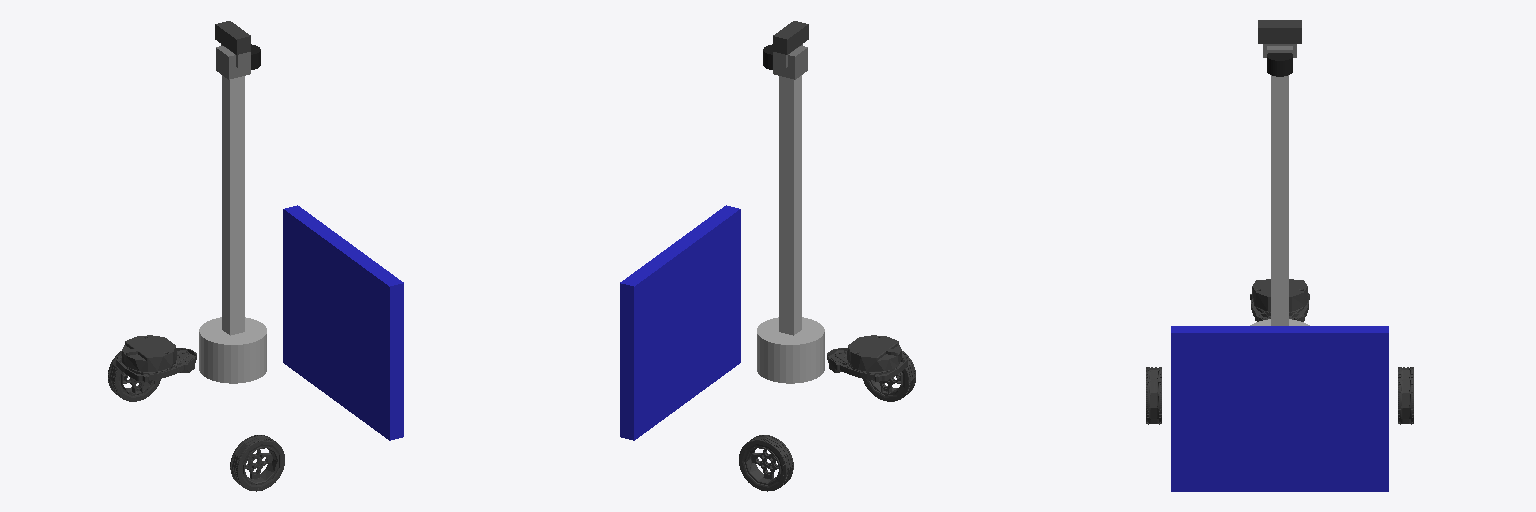
The robot description file, URDF, robot "BombDefusingRobot":
<?xml version="1.0" encoding="utf-8"?>
<robot name="BombDefusingRobot">
  <!-- Materials -->
  <material name="light_black">
    <color rgba="0.1698 0.169 0.169 1" />
  </material>
  <material name="dark">
    <color rgba="0.3 0.3 0.3 1" />
  </material>
  <material name="arm_material">
    <color rgba="0.7 0.7 0.7 1.0" />
  </material>
  <material name="gripper_material">
    <color rgba="0.5 0.5 0.5 1.0" />
  </material>
  <material name="shield_material">
    <color rgba="0.2 0.2 0.8 0.7" /> <!-- Transparent blue for shield -->
  </material>

  <!-- Base Footprint -->
  <link name="base_footprint" />

  <!-- Base Link -->
  <link name="base_link">
    <inertial>
      <origin rpy="0 0 0" xyz="0 0 0" />
      <mass value="1.3729095459" />
      <inertia ixx="0.00870027951896191" ixy="-4.75801425636746E-05" ixz="0.000111604596895631" iyy="0.00861953478306532" iyz="-3.54216444975464E-06" izz="0.0146127268671989" />
    </inertial>
    <visual>
      <origin xyz="-0.064 0 0" />
      <geometry>
        <mesh filename="package://meshes/waffle_base.stl" scale="0.001 0.001 0.001" />
      </geometry>
      <material name="light_black">
        <color rgba="0.1698 0.169 0.169 1" />
      </material>
    </visual>
    <collision>
      <origin xyz="-0.064 0 0.047" />
      <geometry>
        <box size="0.266 0.266 0.094" />
      </geometry>
    </collision>
  </link>

  <!-- Base Scan (Lidar) -->
  <link name="base_scan">
    <inertial>
      <origin rpy="0 0 0" xyz="0 0 0" />
      <mass value="0.1140000001" />
      <inertia ixx="0.00100000004749745" ixy="0" ixz="0" iyy="0.00100000004749745" iyz="0" izz="0.00100000004749745" />
    </inertial>
    <visual>
      <geometry>
        <mesh filename="package://meshes/lds.stl" scale="0.001 0.001 0.001" />
      </geometry>
      <material name="dark">
        <color rgba="0.3 0.3 0.3 1" />
      </material>
    </visual>
    <collision>
      <origin xyz="0.015 0 -0.0065" />
      <geometry>
        <cylinder length="0.0315" radius="0.055" />
      </geometry>
    </collision>
  </link>

  <!-- IMU Link -->
  <link name="imu_link" />

  <!-- Right Wheel -->
  <link name="wheel_right_link">
    <inertial>
      <origin rpy="0 0 0" xyz="0 0 0" />
      <mass value="0.0284989402" />
      <inertia ixx="1.11753870442044E-05" ixy="-4.32541016892607E-11" ixz="-5.93885829403007E-09" iyy="1.11926092358772E-05" iyz="-1.46103424497612E-11" izz="2.07125576707767E-05" />
    </inertial>
    <visual>
      <origin rpy="-4.713185 0 0" />
      <geometry>
        <mesh filename="package://meshes/right_tire.stl" scale="0.001 0.001 0.001" />
      </geometry>
      <material name="dark">
        <color rgba="0.3 0.3 0.3 1" />
      </material>
    </visual>
    <collision>
      <origin rpy="-4.713185 0 0" xyz="0 0 0" />
      <geometry>
        <cylinder length="0.018" radius="0.033" />
      </geometry>
    </collision>
  </link>

  <!-- Left Wheel -->
  <link name="wheel_left_link">
    <inertial>
      <origin rpy="0 0 0" xyz="0 0 0" />
      <mass value="0.0284989402" />
      <inertia ixx="1.11753870442044E-05" ixy="-4.32541016892607E-11" ixz="-5.93885829403007E-09" iyy="1.11926092358772E-05" iyz="-1.46103424497612E-11" izz="2.07125576707767E-05" />
    </inertial>
    <visual>
      <origin rpy="-4.713185 0 0" />
      <geometry>
        <mesh filename="package://meshes/left_tire.stl" scale="0.001 0.001 0.001" />
      </geometry>
      <material name="dark">
        <color rgba="0.3 0.3 0.3 1" />
      </material>
    </visual>
    <collision>
      <origin rpy="-4.713185 0 0" xyz="0 0 0" />
      <geometry>
        <cylinder length="0.018" radius="0.033" />
      </geometry>
    </collision>
  </link>

  <!-- Robotic Arm Base -->
  <link name="arm_base_link">
    <inertial>
      <origin rpy="0 0 0" xyz="0 0 0" />
      <mass value="0.2" />
      <inertia ixx="0.001" ixy="0" ixz="0" iyy="0.001" iyz="0" izz="0.001" />
    </inertial>
    <visual>
      <origin rpy="0 0 0" xyz="0 0 0" />
      <geometry>
        <cylinder length="0.05" radius="0.04" />
      </geometry>
      <material name="arm_material" />
    </visual>
    <collision>
      <origin rpy="0 0 0" xyz="0 0 0" />
      <geometry>
        <cylinder length="0.05" radius="0.04" />
      </geometry>
    </collision>
  </link>
  
  <!-- Arm Segment 1 -->
  <link name="arm_segment_1">
    <inertial>
      <origin rpy="0 0 0" xyz="0 0 0.1" />
      <mass value="0.1" />
      <inertia ixx="0.0008" ixy="0" ixz="0" iyy="0.0008" iyz="0" izz="0.0001" />
    </inertial>
    <visual>
      <origin rpy="0 0 0" xyz="0 0 0.1" />
      <geometry>
        <box size="0.02 0.02 0.2" />
      </geometry>
      <material name="arm_material" />
    </visual>
    <collision>
      <origin rpy="0 0 0" xyz="0 0 0.1" />
      <geometry>
        <box size="0.02 0.02 0.2" />
      </geometry>
    </collision>
  </link>
  
  <!-- Arm Segment 2 -->
  <link name="arm_segment_2">
    <inertial>
      <origin rpy="0 0 0" xyz="0 0 0.1" />
      <mass value="0.1" />
      <inertia ixx="0.0008" ixy="0" ixz="0" iyy="0.0008" iyz="0" izz="0.0001" />
    </inertial>
    <visual>
      <origin rpy="0 0 0" xyz="0 0 0.075" />
      <geometry>
        <box size="0.02 0.02 0.15" />
      </geometry>
      <material name="arm_material" />
    </visual>
    <collision>
      <origin rpy="0 0 0" xyz="0 0 0.075" />
      <geometry>
        <box size="0.02 0.02 0.15" />
      </geometry>
    </collision>
  </link>
  
  <!-- Gripper Base -->
  <link name="gripper_base">
    <inertial>
      <origin rpy="0 0 0" xyz="0 0 0" />
      <mass value="0.05" />
      <inertia ixx="0.0001" ixy="0" ixz="0" iyy="0.0001" iyz="0" izz="0.0001" />
    </inertial>
    <visual>
      <origin rpy="0 0 0" xyz="0 0 0" />
      <geometry>
        <box size="0.03 0.03 0.03" />
      </geometry>
      <material name="gripper_material" />
    </visual>
    <collision>
      <origin rpy="0 0 0" xyz="0 0 0" />
      <geometry>
        <box size="0.03 0.03 0.03" />
      </geometry>
    </collision>
  </link>
  
  <!-- Gripper Left Finger -->
  <link name="gripper_finger_left">
    <inertial>
      <origin rpy="0 0 0" xyz="0 0.01 0.015" />
      <mass value="0.01" />
      <inertia ixx="0.00001" ixy="0" ixz="0" iyy="0.00001" iyz="0" izz="0.00001" />
    </inertial>
    <visual>
      <origin rpy="0 0 0" xyz="0 0.01 0.015" />
      <geometry>
        <box size="0.01 0.02 0.03" />
      </geometry>
      <material name="gripper_material" />
    </visual>
    <collision>
      <origin rpy="0 0 0" xyz="0 0.01 0.015" />
      <geometry>
        <box size="0.01 0.02 0.03" />
      </geometry>
    </collision>
  </link>
  
  <!-- Gripper Right Finger -->
  <link name="gripper_finger_right">
    <inertial>
      <origin rpy="0 0 0" xyz="0 -0.01 0.015" />
      <mass value="0.01" />
      <inertia ixx="0.00001" ixy="0" ixz="0" iyy="0.00001" iyz="0" izz="0.00001" />
    </inertial>
    <visual>
      <origin rpy="0 0 0" xyz="0 -0.01 0.015" />
      <geometry>
        <box size="0.01 0.02 0.03" />
      </geometry>
      <material name="gripper_material" />
    </visual>
    <collision>
      <origin rpy="0 0 0" xyz="0 -0.01 0.015" />
      <geometry>
        <box size="0.01 0.02 0.03" />
      </geometry>
    </collision>
  </link>
  
  <!-- Camera Link -->
  <link name="camera_link">
    <inertial>
      <origin rpy="0 0 0" xyz="0 0 0" />
      <mass value="0.05" />
      <inertia ixx="0.0001" ixy="0" ixz="0" iyy="0.0001" iyz="0" izz="0.0001" />
    </inertial>
    <visual>
      <origin rpy="0 0 0" xyz="0 0 0" />
      <geometry>
        <box size="0.02 0.05 0.02" />
      </geometry>
      <material name="dark" />
    </visual>
    <collision>
      <origin rpy="0 0 0" xyz="0 0 0" />
      <geometry>
        <box size="0.02 0.05 0.02" />
      </geometry>
    </collision>
  </link>
  
  <!-- Bomb Sensor Link -->
  <link name="bomb_sensor_link">
    <inertial>
      <origin rpy="0 0 0" xyz="0 0 0" />
      <mass value="0.02" />
      <inertia ixx="0.0001" ixy="0" ixz="0" iyy="0.0001" iyz="0" izz="0.0001" />
    </inertial>
    <visual>
      <origin rpy="0 0 0" xyz="0 0 0" />
      <geometry>
        <cylinder length="0.02" radius="0.015" />
      </geometry>
      <material name="light_black" />
    </visual>
    <collision>
      <origin rpy="0 0 0" xyz="0 0 0" />
      <geometry>
        <cylinder length="0.02" radius="0.015" />
      </geometry>
    </collision>
  </link>
  
  <!-- Protective Shield -->
  <link name="shield_link">
    <inertial>
      <origin rpy="0 0 0" xyz="0.1 0 0" />
      <mass value="0.5" />
      <inertia ixx="0.001" ixy="0" ixz="0" iyy="0.001" iyz="0" izz="0.001" />
    </inertial>
    <visual>
      <origin rpy="0 0 0" xyz="0.1 0 0" />
      <geometry>
        <box size="0.02 0.25 0.2" />
      </geometry>
      <material name="shield_material" />
    </visual>
    <collision>
      <origin rpy="0 0 0" xyz="0.1 0 0" />
      <geometry>
        <box size="0.02 0.25 0.2" />
      </geometry>
    </collision>
  </link>
  
  <!-- Joints -->
  <!-- Base joints (same as TurtleBot3) -->
  <joint name="base_joint" type="fixed">
    <origin xyz="0 0 0.01" />
    <parent link="base_footprint" />
    <child link="base_link" />
  </joint>
  <joint name="scan_joint" type="fixed">
    <origin xyz="-0.064 0 0.122" />
    <parent link="base_link" />
    <child link="base_scan" />
  </joint>
  <joint name="imu_joint" type="fixed">
    <origin xyz="0 0 0.068" />
    <parent link="base_link" />
    <child link="imu_link" />
  </joint>
  <joint name="wheel_right_joint" type="continuous">
    <origin rpy="-1.57 0 0" xyz="0 -0.144 0.023" />
    <parent link="base_link" />
    <child link="wheel_right_link" />
    <axis xyz="0 1 0" />
  </joint>
  <joint name="wheel_left_joint" type="continuous">
    <origin rpy="-1.57 0 0" xyz="0 0.144 0.023" />
    <parent link="base_link" />
    <child link="wheel_left_link" />
    <axis xyz="0 1 0" />
  </joint>
  
  <!-- Arm joints -->
  <joint name="arm_base_joint" type="fixed">
    <parent link="base_link" />
    <child link="arm_base_link" />
    <origin xyz="0.05 0 0.1" />
  </joint>
  
  <joint name="arm_joint_1" type="revolute">
    <parent link="arm_base_link" />
    <child link="arm_segment_1" />
    <origin xyz="0 0 0.025" />
    <axis xyz="0 1 0" />
    <limit effort="1000.0" lower="-1.57" upper="1.57" velocity="0.5" />
  </joint>
  
  <joint name="arm_joint_2" type="revolute">
    <parent link="arm_segment_1" />
    <child link="arm_segment_2" />
    <origin xyz="0 0 0.2" />
    <axis xyz="0 1 0" />
    <limit effort="1000.0" lower="-1.57" upper="1.57" velocity="0.5" />
  </joint>
  
  <joint name="gripper_base_joint" type="revolute">
    <parent link="arm_segment_2" />
    <child link="gripper_base" />
    <origin xyz="0 0 0.15" />
    <axis xyz="0 0 1" />
    <limit effort="1000.0" lower="-3.14" upper="3.14" velocity="0.5" />
  </joint>
  
  <joint name="gripper_finger_left_joint" type="prismatic">
    <parent link="gripper_base" />
    <child link="gripper_finger_left" />
    <origin xyz="0 0 0" />
    <axis xyz="0 1 0" />
    <limit effort="100.0" lower="0" upper="0.02" velocity="0.1" />
  </joint>
  
  <joint name="gripper_finger_right_joint" type="prismatic">
    <parent link="gripper_base" />
    <child link="gripper_finger_right" />
    <origin xyz="0 0 0" />
    <axis xyz="0 -1 0" />
    <limit effort="100.0" lower="0" upper="0.02" velocity="0.1" />
  </joint>
  
  <joint name="camera_joint" type="fixed">
    <parent link="gripper_base" />
    <child link="camera_link" />
    <origin xyz="0 0 0.03" />
  </joint>
  
  <joint name="bomb_sensor_joint" type="fixed">
    <parent link="gripper_base" />
    <child link="bomb_sensor_link" />
    <origin xyz="0.02 0 0" />
  </joint>
  
  <joint name="shield_joint" type="fixed">
    <parent link="base_link" />
    <child link="shield_link" />
    <origin xyz="0.1 0 0.1" />
  </joint>
  
  <!-- Gazebo Plugins (Preserved for Movement) -->
  <gazebo reference="base_link">
    <material>Gazebo/DarkGrey</material>
  </gazebo>
  <gazebo reference="wheel_left_link">
    <mu1>0.1</mu1>
    <mu2>0.1</mu2>
    <kp>500000.0</kp>
    <kd>10.0</kd>
    <minDepth>0.001</minDepth>
    <maxVel>0.1</maxVel>
    <fdir1>1 0 0</fdir1>
    <material>Gazebo/FlatBlack</material>
  </gazebo>
  <gazebo reference="wheel_right_link">
    <mu1>0.1</mu1>
    <mu2>0.1</mu2>
    <kp>500000.0</kp>
    <kd>10.0</kd>
    <minDepth>0.001</minDepth>
    <maxVel>0.1</maxVel>
    <fdir1>1 0 0</fdir1>
    <material>Gazebo/FlatBlack</material>
  </gazebo>
  
  <!-- Gazebo plugin for differential drive -->
  <gazebo>
    <plugin filename="libgazebo_ros_diff_drive.so" name="bomb_defusing_robot_controller">
      <commandTopic>cmd_vel</commandTopic>
      <odometryTopic>odom</odometryTopic>
      <odometryFrame>odom</odometryFrame>
      <odometrySource>world</odometrySource>
      <publishOdomTF>true</publishOdomTF>
      <robotBaseFrame>base_footprint</robotBaseFrame>
      <publishWheelTF>false</publishWheelTF>
      <publishTf>true</publishTf>
      <publishWheelJointState>true</publishWheelJointState>
      <legacyMode>false</legacyMode>
      <updateRate>30</updateRate>
      <leftJoint>wheel_left_joint</leftJoint>
      <rightJoint>wheel_right_joint</rightJoint>
      <wheelSeparation>0.287</wheelSeparation>
      <wheelDiameter>0.066</wheelDiameter>
      <wheelAcceleration>1</wheelAcceleration>
      <wheelTorque>10</wheelTorque>
      <rosDebugLevel>na</rosDebugLevel>
    </plugin>
  </gazebo>
  
  <!-- Gazebo plugin for IMU -->
  <gazebo>
    <plugin filename="libgazebo_ros_imu.so" name="imu_plugin">
      <alwaysOn>true</alwaysOn>
      <bodyName>imu_link</bodyName>
      <frameName>imu_link</frameName>
      <topicName>imu</topicName>
      <serviceName>imu_service</serviceName>
      <gaussianNoise>0.0</gaussianNoise>
      <updateRate>200</updateRate>
      <imu>
        <noise>
          <type>gaussian</type>
          <rate>
            <mean>0.0</mean>
            <stddev>2e-4</stddev>
            <bias_mean>0.0000075</bias_mean>
            <bias_stddev>0.0000008</bias_stddev>
          </rate>
          <accel>
            <mean>0.0</mean>
            <stddev>1.7e-2</stddev>
            <bias_mean>0.1</bias_mean>
            <bias_stddev>0.001</bias_stddev>
          </accel>
        </noise>
      </imu>
    </plugin>
  </gazebo>
  
  <!-- Gazebo plugin for LiDAR -->
  <gazebo reference="base_scan">
    <material>Gazebo/FlatBlack</material>
    <sensor name="lds_lfcd_sensor" type="ray">
      <pose>0 0 0 0 0 0</pose>
      <visualize>false</visualize>
      <update_rate>5</update_rate>
      <ray>
        <scan>
          <horizontal>
            <samples>360</samples>
            <resolution>1</resolution>
            <min_angle>0.0</min_angle>
            <max_angle>6.28319</max_angle>
          </horizontal>
        </scan>
        <range>
          <min>0.120</min>
          <max>3.5</max>
          <resolution>0.015</resolution>
        </range>
        <noise>
          <type>gaussian</type>
          <mean>0.0</mean>
          <stddev>0.01</stddev>
        </noise>
      </ray>
      <plugin filename="libgazebo_ros_laser.so" name="gazebo_ros_lds_lfcd_controller">
        <topicName>scan</topicName>
        <frameName>base_scan</frameName>
      </plugin>
    </sensor>
  </gazebo>
  
  <!-- Gazebo plugin for Camera -->
  <gazebo reference="camera_link">
    <sensor type="camera" name="bomb_camera">
      <update_rate>30.0</update_rate>
      <camera name="head">
        <horizontal_fov>1.3962634</horizontal_fov>
        <image>
          <width>800</width>
          <height>600</height>
          <format>R8G8B8</format>
        </image>
        <clip>
          <near>0.02</near>
          <far>300</far>
        </clip>
        <noise>
          <type>gaussian</type>
          <mean>0.0</mean>
          <stddev>0.007</stddev>
        </noise>
      </camera>
      <plugin name="camera_controller" filename="libgazebo_ros_camera.so">
        <alwaysOn>true</alwaysOn>
        <updateRate>0.0</updateRate>
        <cameraName>bomb_robot/camera</cameraName>
        <imageTopicName>image_raw</imageTopicName>
        <cameraInfoTopicName>camera_info</cameraInfoTopicName>
        <frameName>camera_link</frameName>
        <hackBaseline>0.07</hackBaseline>
        <distortionK1>0.0</distortionK1>
        <distortionK2>0.0</distortionK2>
        <distortionK3>0.0</distortionK3>
        <distortionT1>0.0</distortionT1>
        <distortionT2>0.0</distortionT2>
      </plugin>
    </sensor>
  </gazebo>
  
  <!-- Gazebo plugin for Bomb Sensor -->
  <gazebo reference="bomb_sensor_link">
    <sensor name="bomb_sensor" type="ray">
      <pose>0 0 0 0 0 0</pose>
      <visualize>true</visualize>
      <update_rate>10</update_rate>
      <ray>
        <scan>
          <horizontal>
            <samples>10</samples>
            <resolution>1</resolution>
            <min_angle>-0.25</min_angle>
            <max_angle>0.25</max_angle>
          </horizontal>
          <vertical>
            <samples>10</samples>
            <resolution>1</resolution>
            <min_angle>-0.25</min_angle>
            <max_angle>0.25</max_angle>
          </vertical>
        </scan>
        <range>
          <min>0.01</min>
          <max>0.5</max>
          <resolution>0.01</resolution>
        </range>
      </ray>
      <plugin filename="libgazebo_ros_range.so" name="bomb_sensor_controller">
        <topicName>bomb_robot/bomb_detector</topicName>
        <frameName>bomb_sensor_link</frameName>
        <radiation>infrared</radiation>
        <fov>0.5</fov>
      </plugin>
    </sensor>
  </gazebo>
  
  <!-- Gazebo plugins for Arm Joints -->
  <gazebo reference="arm_joint_1">
    <implicitSpringDamper>1</implicitSpringDamper>
    <provideFeedback>true</provideFeedback>
  </gazebo>
  
  <gazebo reference="arm_joint_2">
    <implicitSpringDamper>1</implicitSpringDamper>
    <provideFeedback>true</provideFeedback>
  </gazebo>
  
  <gazebo reference="gripper_base_joint">
    <implicitSpringDamper>1</implicitSpringDamper>
    <provideFeedback>true</provideFeedback>
  </gazebo>
  
  <gazebo reference="gripper_finger_left_joint">
    <implicitSpringDamper>1</implicitSpringDamper>
    <provideFeedback>true</provideFeedback>
  </gazebo>
  
  <gazebo reference="gripper_finger_right_joint">
    <implicitSpringDamper>1</implicitSpringDamper>
    <provideFeedback>true</provideFeedback>
  </gazebo>
  
  <!-- ROS Control for Arm -->
  <gazebo>
    <plugin name="gazebo_ros_control" filename="libgazebo_ros_control.so">
      <robotNamespace>/bomb_robot</robotNamespace>
      <robotSimType>gazebo_ros_control/DefaultRobotHWSim</robotSimType>
    </plugin>
  </gazebo>
</robot> 

--- Facts derived from the render (not from the file) ---
3 views of the same robot in one strip: view 1: azimuth 30°, elevation 25°; view 2: azimuth 150°, elevation 25°; view 3: azimuth 270°, elevation 25° (orthographic).
Robot: BombDefusingRobot — 15 links, 14 joints (3 revolute, 2 continuous, 2 prismatic, 7 fixed); root link base_footprint; default pose: every joint at zero.
Visible links, largest first — view 1: shield_link, arm_base_link, arm_segment_1, base_scan, arm_segment_2, wheel_right_link, wheel_left_link, camera_link, gripper_base; view 2: shield_link, arm_base_link, arm_segment_1, base_scan, arm_segment_2, wheel_left_link, wheel_right_link, camera_link, gripper_base; view 3: shield_link, arm_segment_1, arm_segment_2, base_scan, camera_link, wheel_left_link, wheel_right_link, bomb_sensor_link.
Link boxes in pixels (left/top/right/bottom): shield_link: left=283, top=205, right=403, bottom=440; arm_base_link: left=199, top=317, right=266, bottom=383; arm_segment_1: left=222, top=176, right=244, bottom=335; base_scan: left=116, top=335, right=196, bottom=381; arm_segment_2: left=222, top=75, right=244, bottom=180; wheel_right_link: left=230, top=435, right=284, bottom=491; wheel_left_link: left=108, top=351, right=160, bottom=401; camera_link: left=215, top=21, right=250, bottom=54; gripper_base: left=216, top=46, right=250, bottom=79; shield_link: left=620, top=205, right=740, bottom=440; arm_base_link: left=757, top=317, right=824, bottom=383; arm_segment_1: left=779, top=176, right=801, bottom=335; base_scan: left=827, top=335, right=907, bottom=381; arm_segment_2: left=779, top=75, right=801, bottom=180; wheel_left_link: left=739, top=435, right=793, bottom=491; wheel_right_link: left=863, top=351, right=915, bottom=401; camera_link: left=773, top=21, right=808, bottom=54; gripper_base: left=773, top=46, right=807, bottom=79; shield_link: left=1171, top=326, right=1388, bottom=491; arm_segment_1: left=1271, top=178, right=1288, bottom=325; arm_segment_2: left=1271, top=75, right=1288, bottom=177; base_scan: left=1250, top=279, right=1309, bottom=321; camera_link: left=1258, top=20, right=1301, bottom=43; wheel_left_link: left=1398, top=367, right=1413, bottom=424; wheel_right_link: left=1146, top=367, right=1161, bottom=424; bomb_sensor_link: left=1267, top=53, right=1292, bottom=76.
Bounding box of the posed robot: 0.307 × 0.3062 × 0.525 m (x, y, z).
3 mesh visuals loaded from 4 distinct referenced files (3 ASCII STL); not drawn: 1 (reference not matched to a file when rendering).
